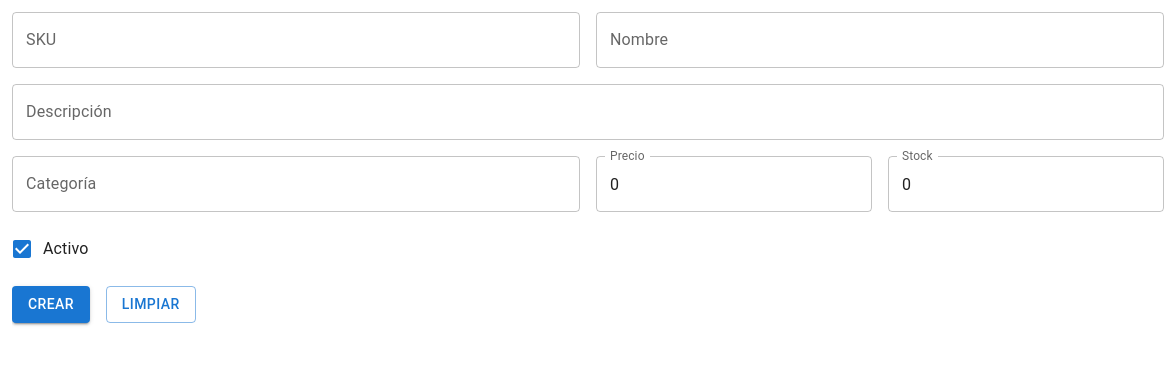
Test case: ProductForm — validación de precio y stock › muestra error cuando el precio es negativo
Type "SKU-001" into the field labelled "SKU" at [296, 40], box [12,12,580,68]
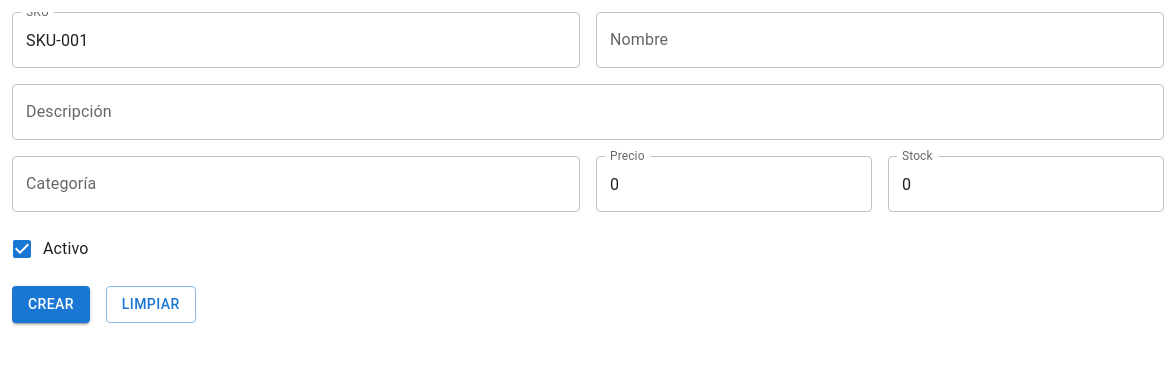
Type "Laptop Pro" into the field labelled "Nombre" at [880, 40], box [596,12,1164,68]
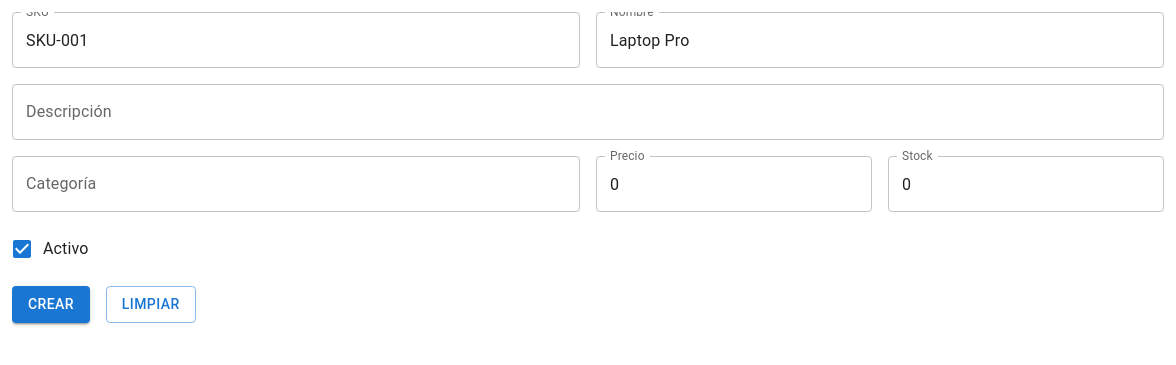
Type "Technology" into the field labelled "Categoría" at [296, 184], box [12,156,580,212]
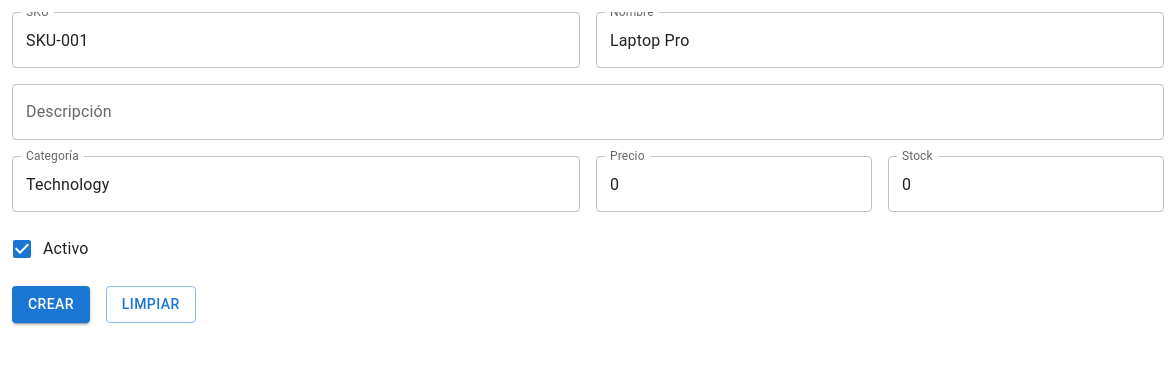
Replace the text in the number field labelled "Precio" with "-10" at [734, 184], box [596,156,872,212]
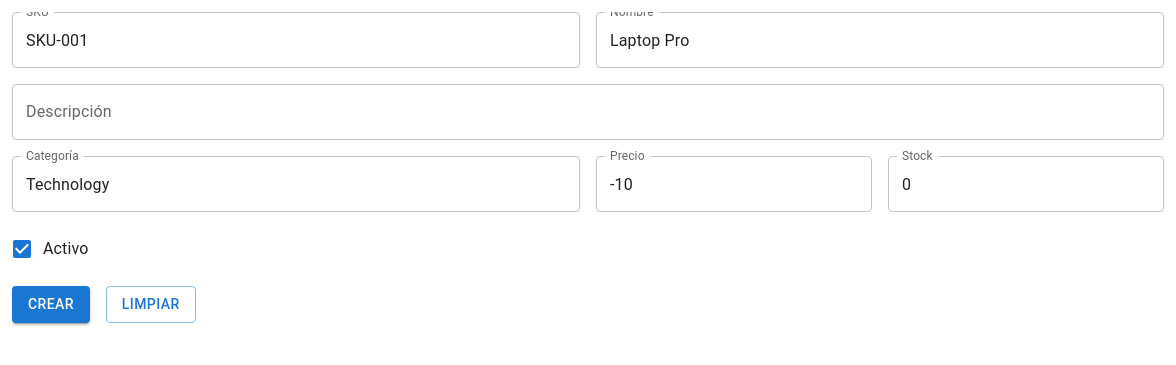
Submit the form
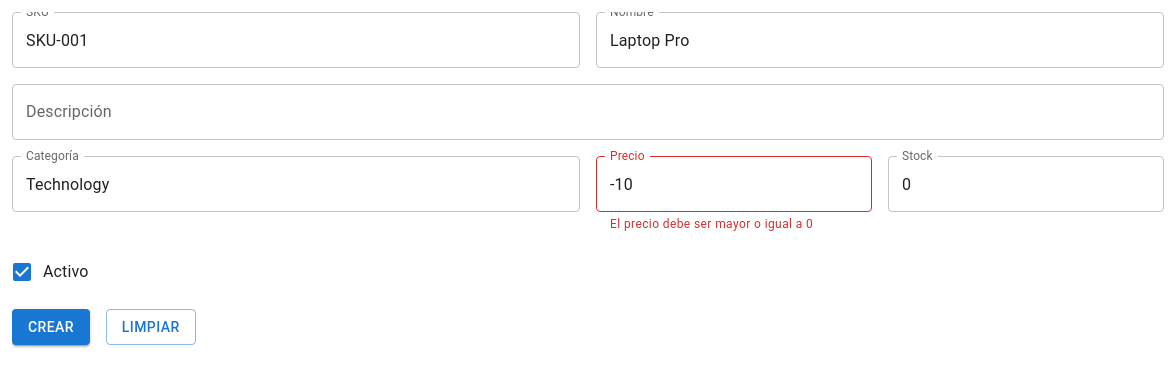
Result: the text "El precio debe ser mayor o igual a 0" is shown at [610,217,813,231]
